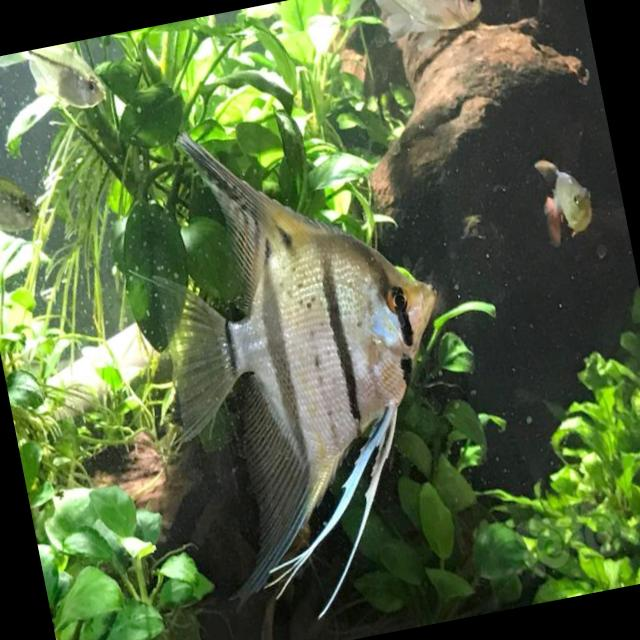AngelFish: (126, 93, 490, 622)
